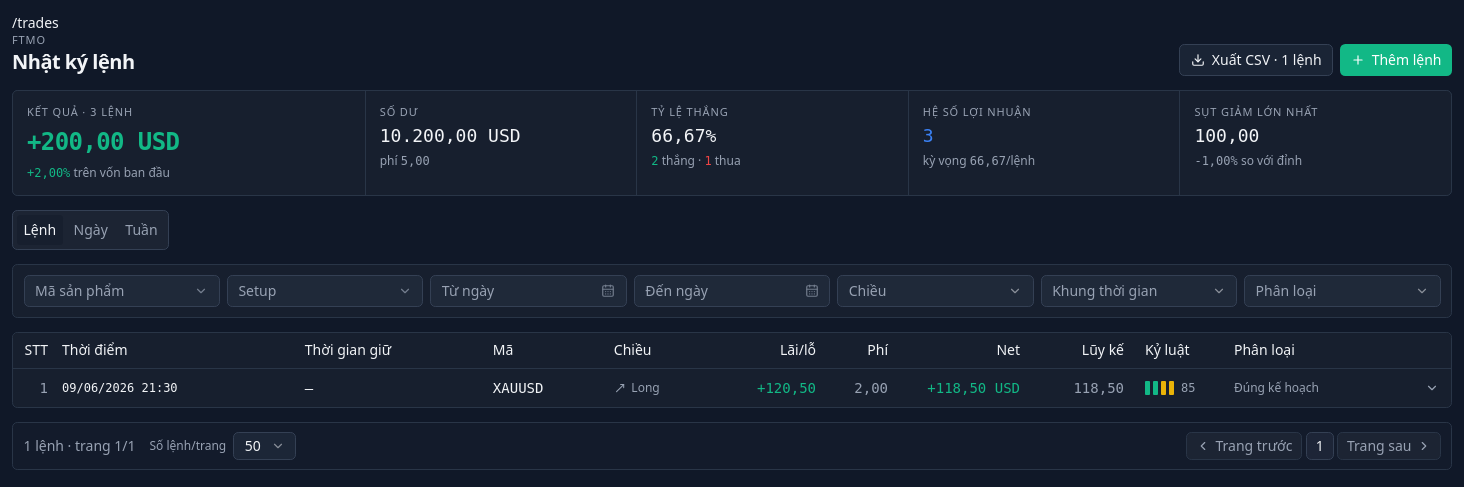
Test case: bấm tab Tuần ghi view=week lên URL và gọi API đúng kỳ
The width and height of the screenshot is (1464, 487).
Expected: the row "XAUUSD" is shown, [13, 368, 1451, 407]
Click the radio button labelled "Tuần".
click(141, 230)  # box [118, 215, 165, 245]
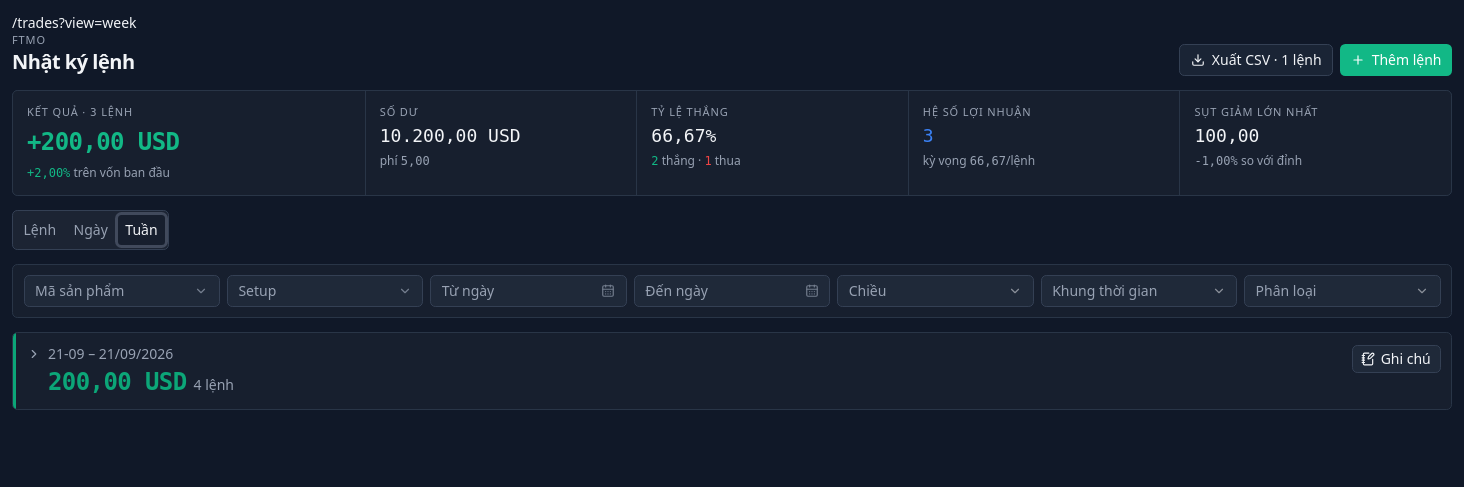
Result: the text with test id "url" shows "view=week" at [12, 13, 136, 32]
